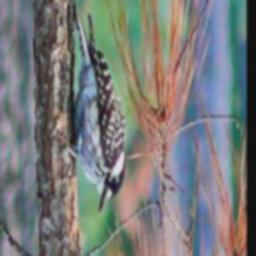Woodpecker: (52, 0, 136, 225)
